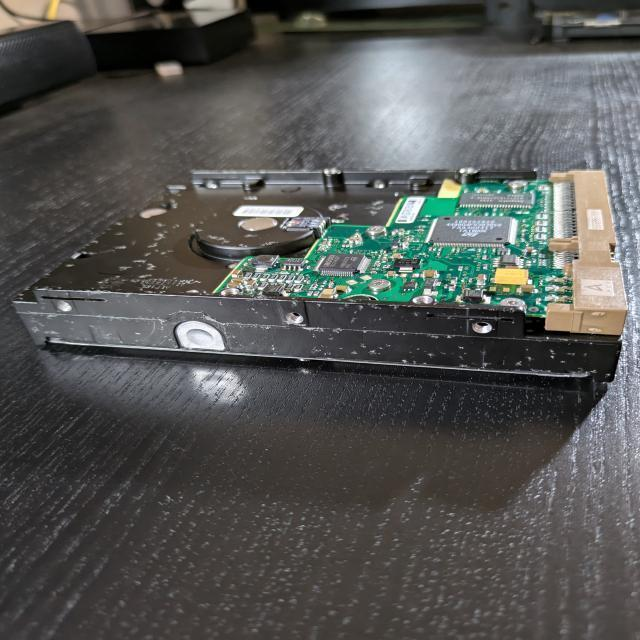DISK: (12, 168, 630, 384)
